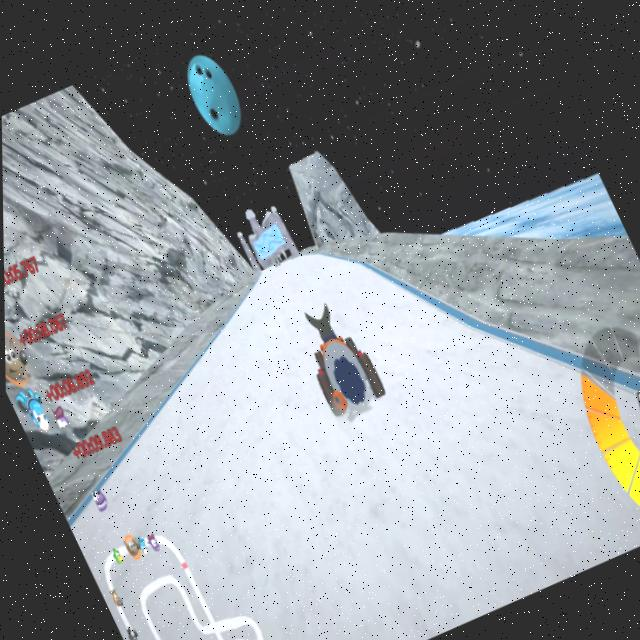enemy_kart: (272, 254, 283, 269)
player_kart: (277, 287, 391, 420)
track: (238, 241, 351, 328)
